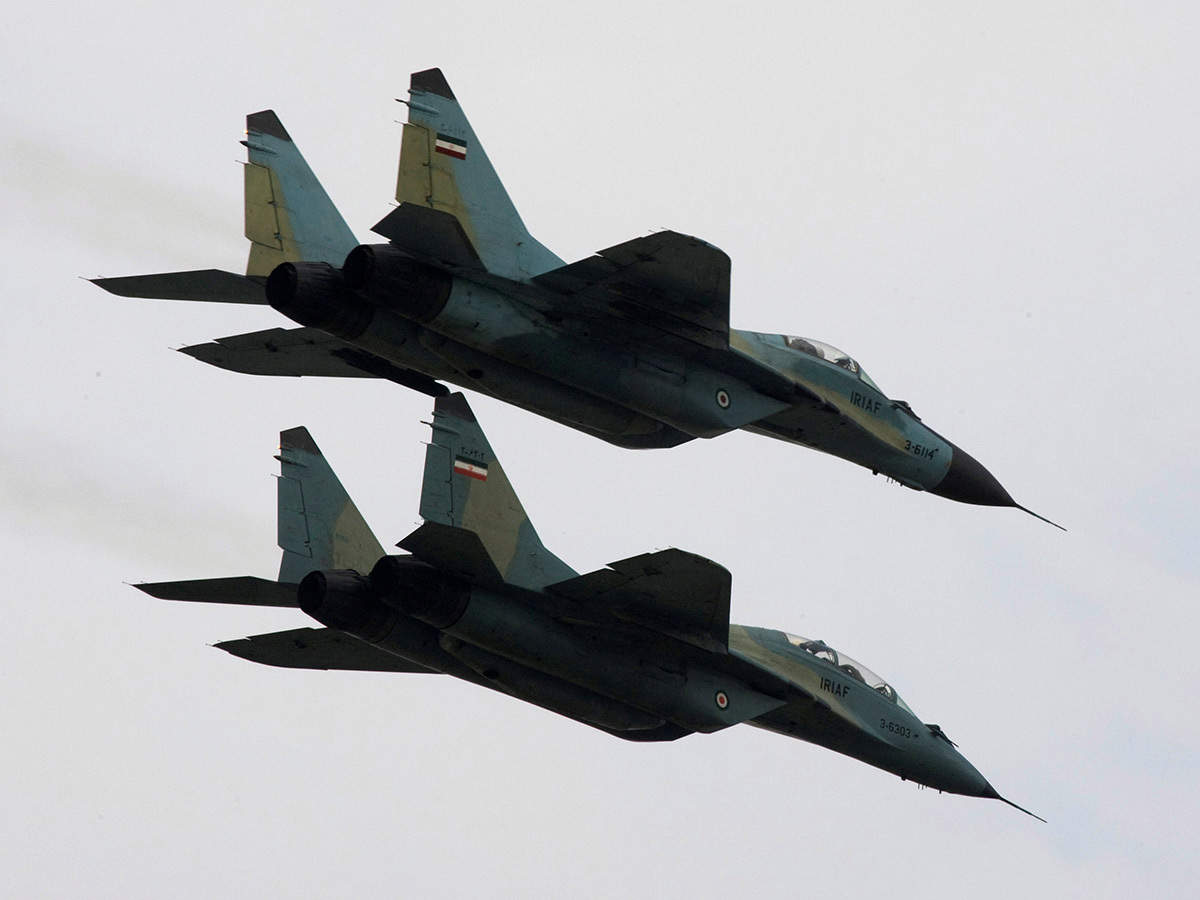Iran: (434, 129, 474, 163), (449, 455, 491, 482), (711, 688, 735, 712), (713, 382, 734, 409)
Mig-29: (154, 20, 1073, 529), (234, 395, 1045, 857)
